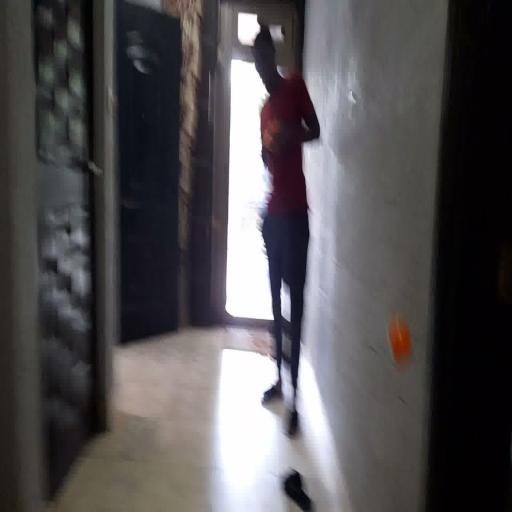plastic-ball: (385, 318, 412, 366)
